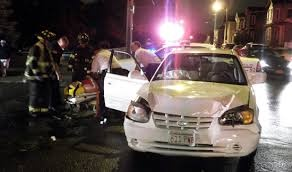Broken-glass: (123, 94, 154, 125), (218, 104, 250, 127)
Dent: (154, 92, 221, 133)
